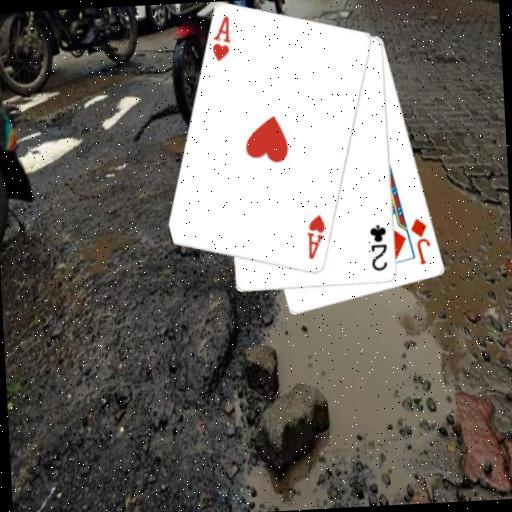2C: (367, 221, 390, 273)
AH: (208, 13, 234, 64), (303, 212, 329, 262)
JD: (407, 215, 433, 267)
